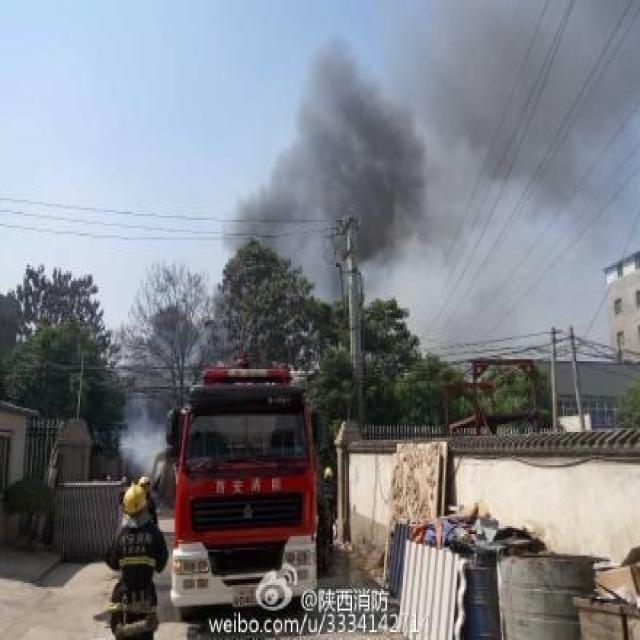Smoke: (227, 0, 640, 263), (120, 420, 172, 483)
